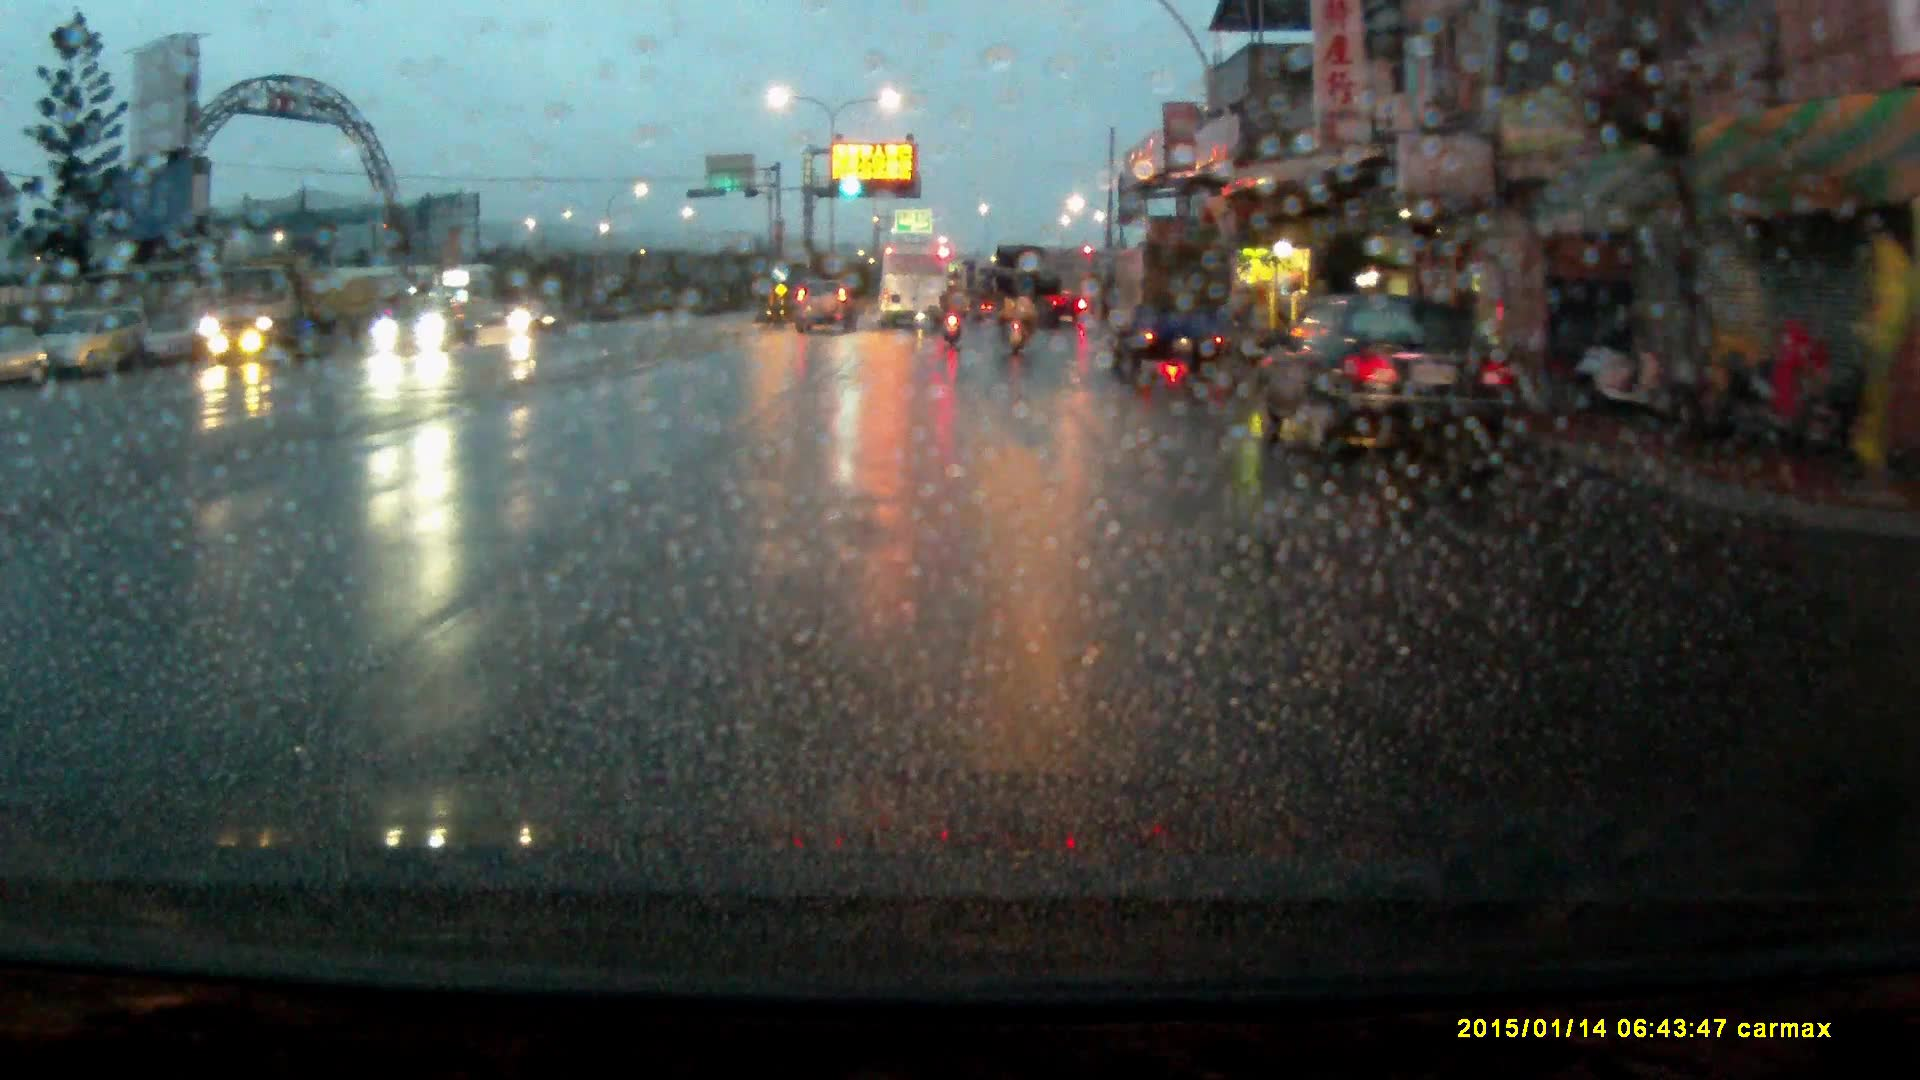rider: (996, 276, 1033, 359), (942, 281, 968, 350)
vehicle: (1264, 296, 1516, 477), (204, 256, 396, 365), (1108, 246, 1238, 374), (31, 309, 140, 386), (369, 298, 481, 357), (994, 246, 1065, 333), (880, 247, 948, 332), (795, 279, 858, 340), (507, 296, 570, 341)
